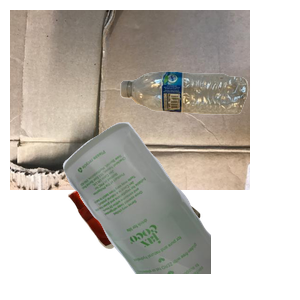cardboard: (10, 10, 250, 190)
glass: (60, 120, 300, 300)
plastic: (118, 69, 300, 176)
trash: (65, 148, 258, 300)
